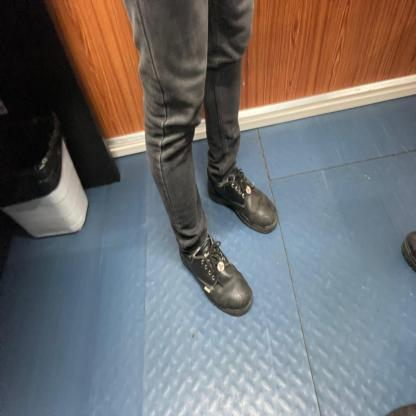bota: (178, 230, 255, 318), (207, 166, 280, 236)
